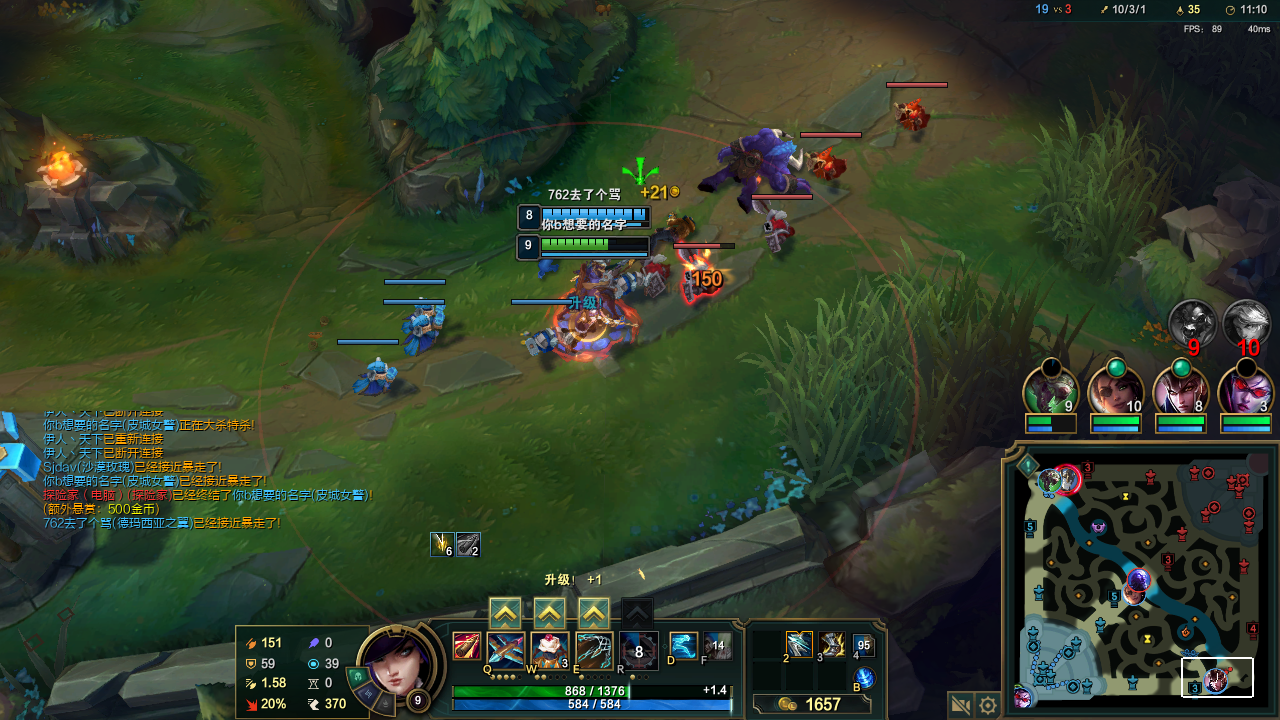DFXB: (677, 253, 732, 298), (760, 213, 797, 246), (810, 148, 844, 176), (898, 101, 930, 130)
Shenji: (583, 600, 605, 626), (495, 600, 516, 625), (540, 598, 557, 628)
WFXB: (351, 361, 397, 390), (406, 317, 440, 347), (527, 328, 560, 356), (410, 300, 433, 310)
